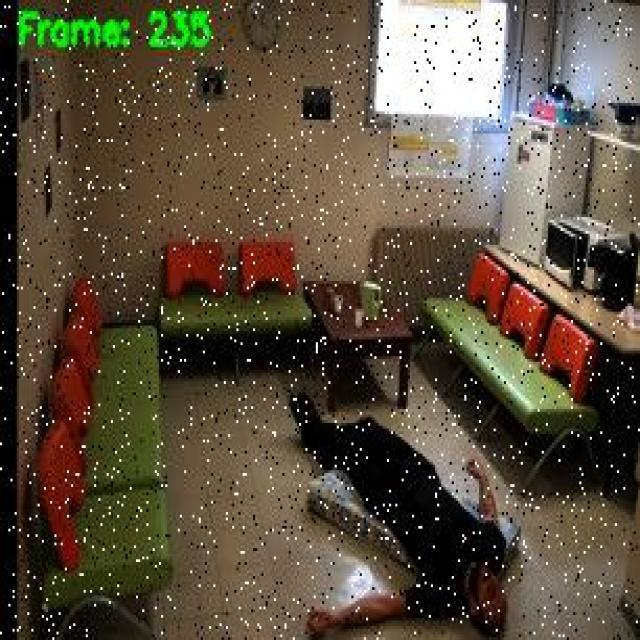fall: (284, 385, 512, 636)
